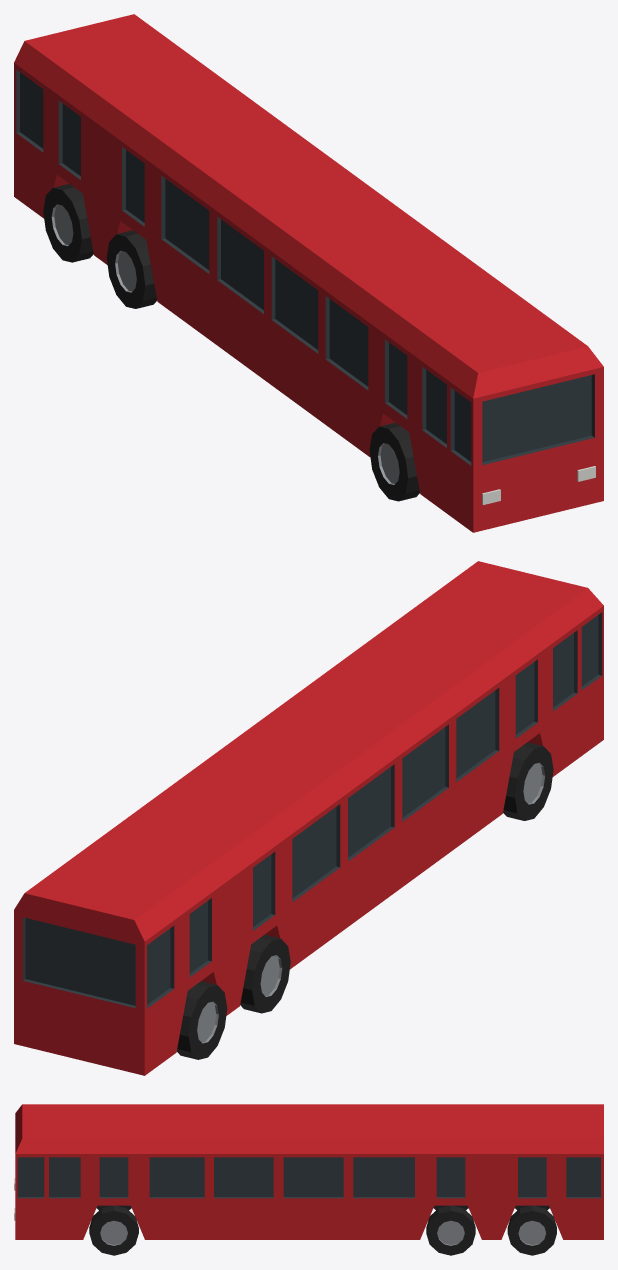
File: maqueta_metrobus.fbx
The picture shows the model from 3 angles, top to bottom: view 1: azimuth 30°, elevation 25°; view 2: azimuth 150°, elevation 25°; view 3: azimuth 270°, elevation 25°; orthographic projection. The views are drawn at different scales.
Parts seen in each view (by area): view 1: maqueta_metrobus; view 2: maqueta_metrobus; view 3: maqueta_metrobus.
Boxes of the visible parts, bbox=[...] form: maqueta_metrobus: bbox=[14, 14, 603, 532]; maqueta_metrobus: bbox=[14, 561, 603, 1075]; maqueta_metrobus: bbox=[14, 1104, 603, 1255].
Bounding box in the file's own units: 0.1551 × 0.1774 × 0.85.
